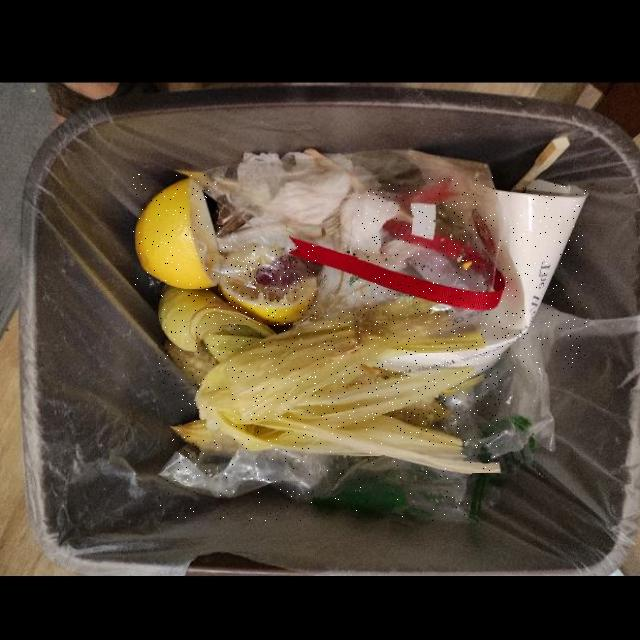biowaste: (171, 310, 501, 473), (159, 283, 276, 384), (133, 174, 220, 288), (219, 245, 317, 325)
paper: (359, 177, 587, 372)
plastic: (158, 444, 472, 520)
